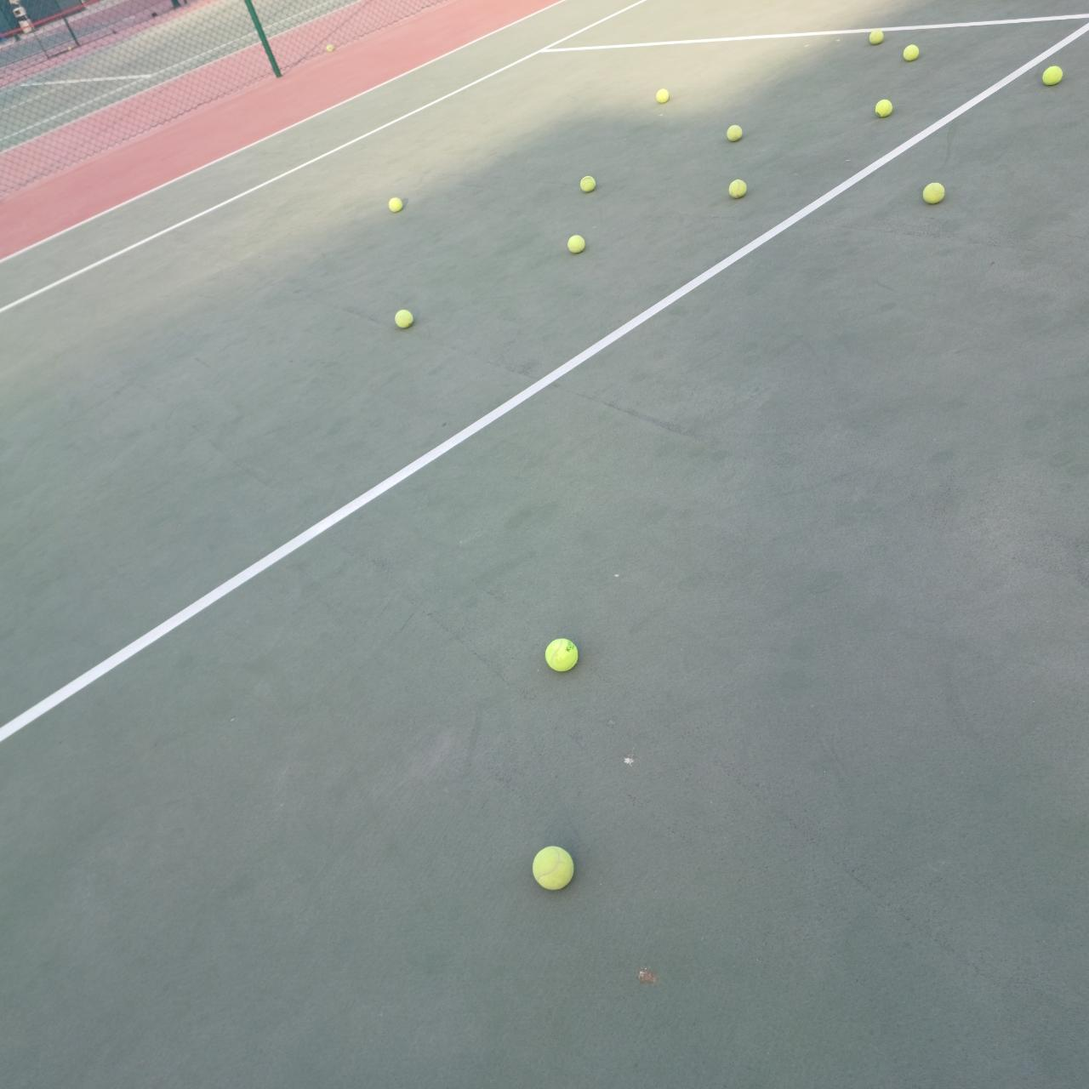tennis-ball: (530, 842, 575, 891), (543, 635, 579, 673), (921, 180, 945, 204), (1041, 63, 1063, 85), (392, 307, 413, 328), (565, 232, 585, 254), (727, 177, 747, 198), (874, 96, 892, 117), (901, 42, 920, 61), (724, 123, 743, 141), (578, 173, 596, 192), (386, 194, 403, 212), (653, 86, 670, 103), (869, 30, 884, 44), (326, 44, 335, 52)
